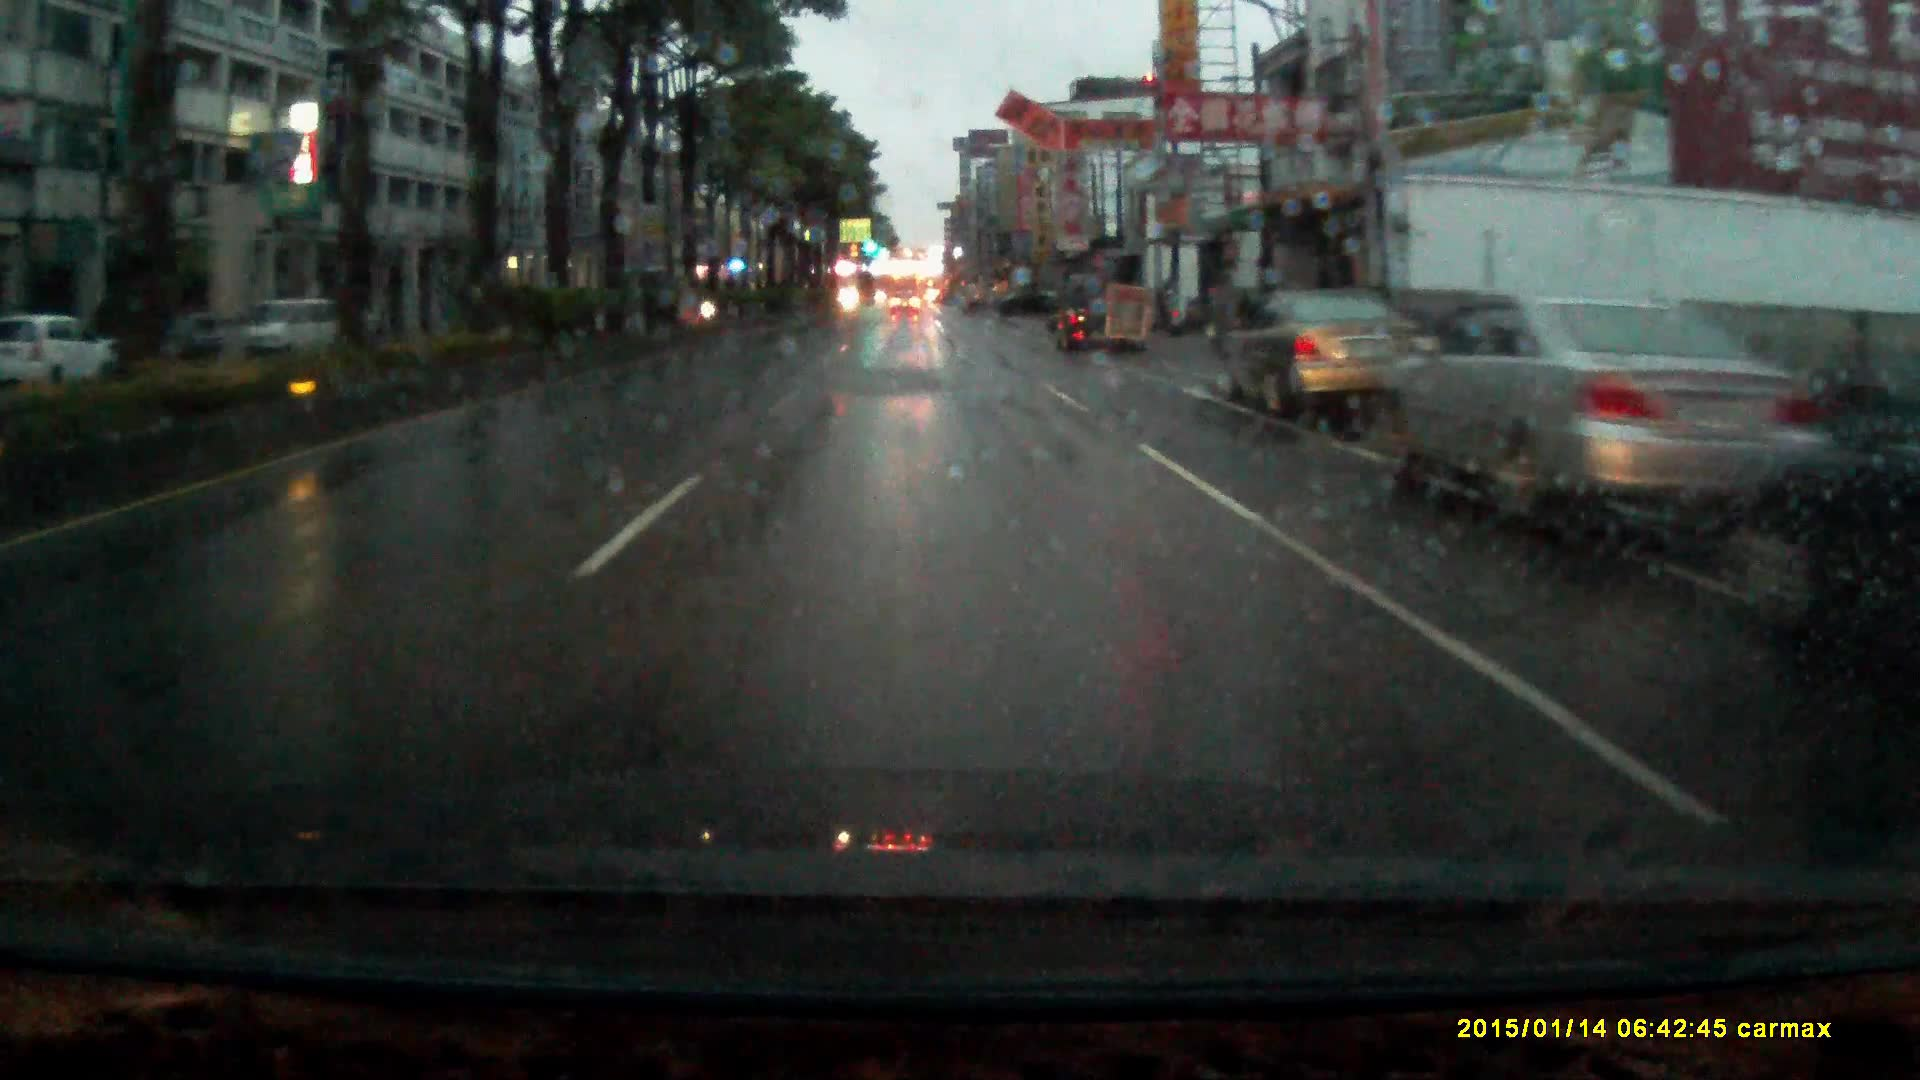vehicle: (1367, 295, 1764, 534), (1220, 287, 1425, 411), (210, 297, 351, 363), (1055, 277, 1139, 353), (889, 286, 922, 316)
